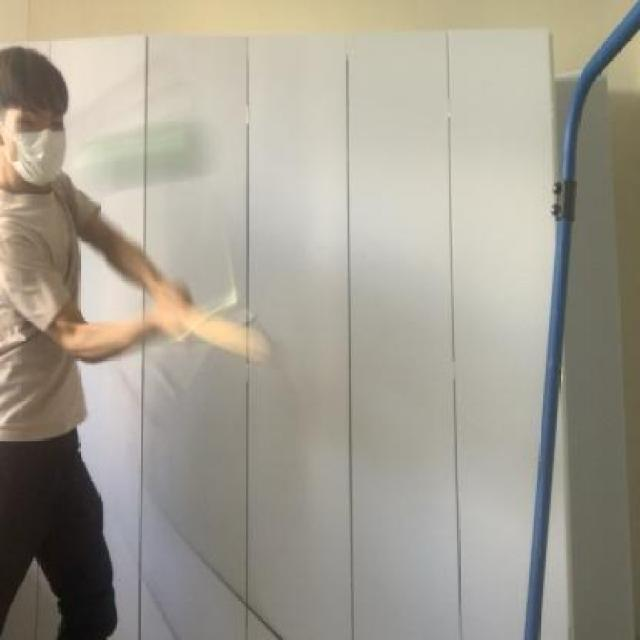baseball: (81, 108, 216, 204)
